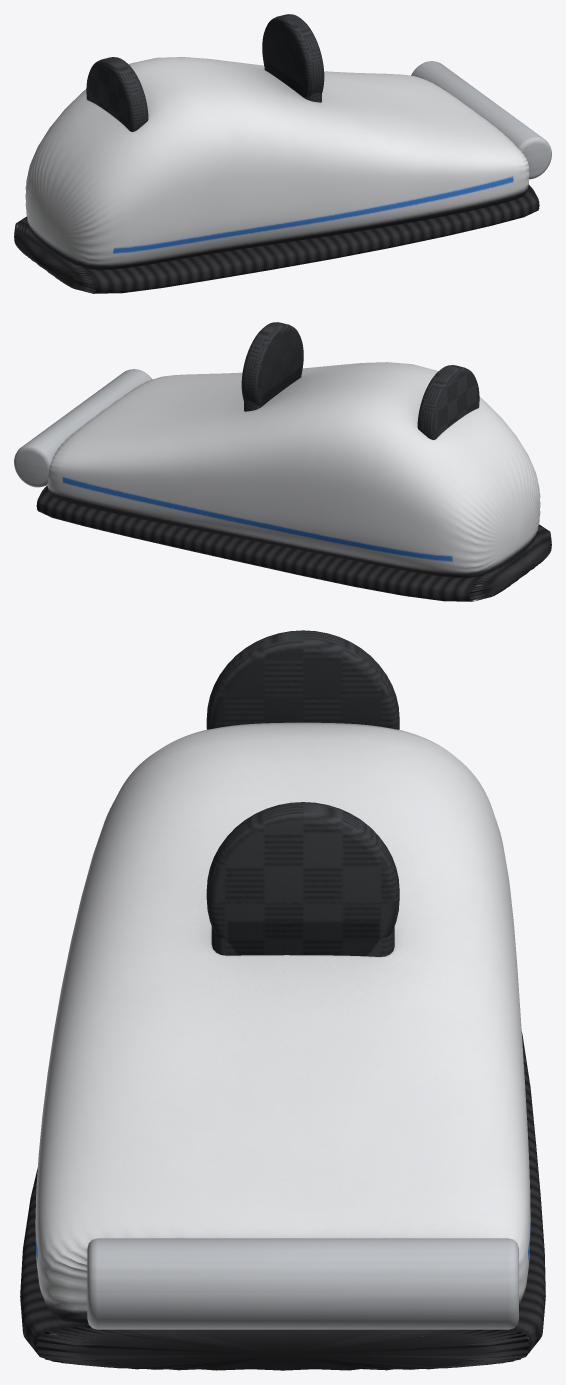
Rendered from left_foot.glb.
3 renders of one model, top to bottom at view 1: azimuth 30°, elevation 25°; view 2: azimuth 150°, elevation 25°; view 3: azimuth 270°, elevation 25°, orthographic. The views are drawn at different scales.
Parts seen in each view (by area): view 1: left_foot; view 2: left_foot; view 3: left_foot.
Part boxes in pixels (x1,y1,x2,y2): left_foot: (14, 14, 551, 293); left_foot: (14, 322, 551, 601); left_foot: (20, 630, 545, 1370).
Bounding box in the file's own units: 0.2098 × 0.084 × 0.1036.
1 material, 1 textured.
